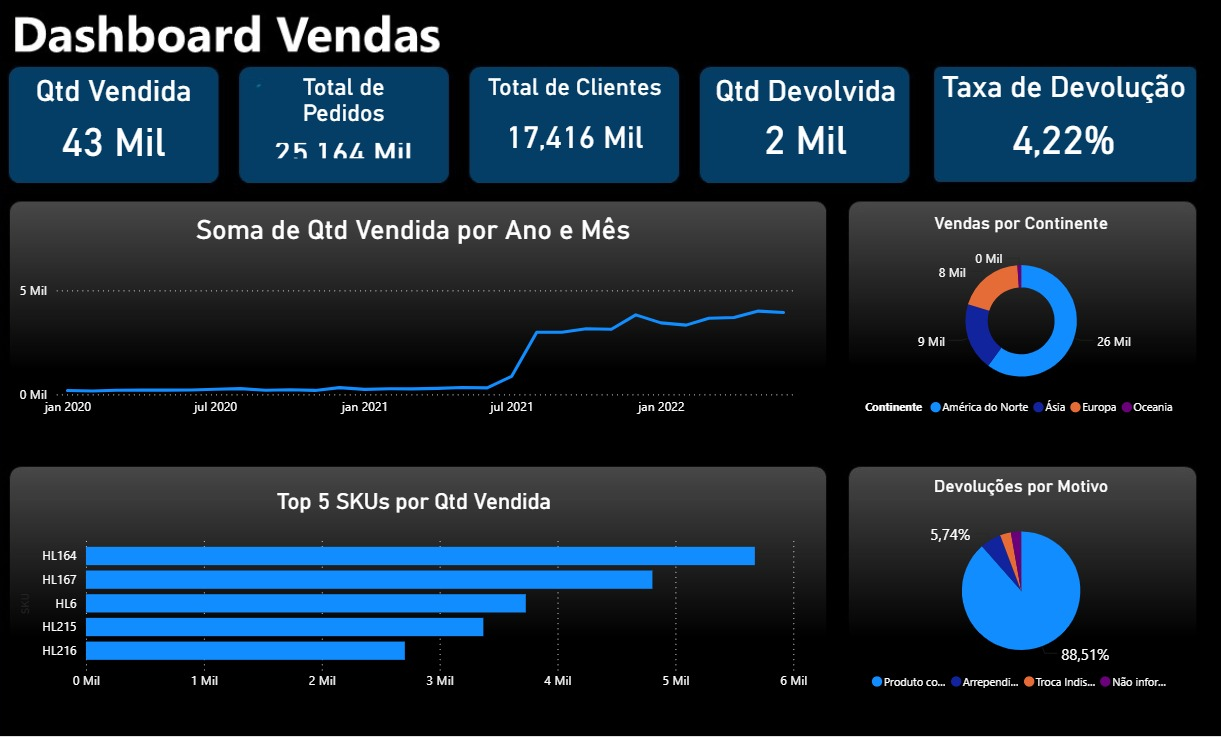

The dashboard page shown, as its layout file describes it:
{"tool":"powerbi","page":{"name":"Página 1","canvas":[1280,720],"ordinal":0},"visuals":[{"type":"cardVisual","title":"Qtd Vendida","fields":{"Data":["Sum(Vendas 2020-2021-2022.Qtd Vendida)"]},"box":[106.1,73.3,194,101],"z":0},{"type":"cardVisual","title":"Total de Pedidos","fields":{"Data":["Count(Vendas 2020-2021-2022.Ordem de Compra)"]},"box":[330.1,72.9,194,101],"z":1000},{"type":"cardVisual","title":"Total de Clientes","fields":{"Data":["Count(Vendas 2020-2021-2022.ID Cliente)"]},"box":[554,72.9,194,101],"z":2000},{"type":"cardVisual","title":"Qtd Devolvida","fields":{"Data":["Sum(BaseDevoluções.Qtd Devolvida)"]},"box":[778.8,72.9,194,101],"z":3000},{"type":"cardVisual","title":"Taxa de Devolução","fields":{"Data":["BaseDevoluções.Taxa Devolucao %"]},"box":[1001.8,69.1,250.8,108],"z":4000},{"type":"donutChart","title":"Vendas por Continente","fields":{"Y":["Sum(Vendas 2020-2021-2022.Qtd Vendida)"],"Category":["CadastroLocalidades.Continente"]},"box":[927.9,209.3,315.4,206.4],"z":5000},{"type":"lineChart","fields":{"Category":["Vendas 2020-2021-2022.Data da Venda.Variation.Hierarquia de datas.Ano","Vendas 2020-2021-2022.Data da Venda.Variation.Hierarquia de datas.Mês"],"Y":["Sum(Vendas 2020-2021-2022.Qtd Vendida)"]},"box":[106.1,209.3,776.5,206.4],"z":6000},{"type":"barChart","title":"Top 5 SKUs por Qtd Vendida","fields":{"Category":["Vendas 2020-2021-2022.SKU"],"Y":["Sum(Vendas 2020-2021-2022.Qtd Vendida)"]},"box":[107.1,476.5,776,206],"z":7000},{"type":"pieChart","title":"Devoluções por Motivo","fields":{"Y":["Sum(BaseDevoluções.Qtd Devolvida)"],"Category":["BaseDevoluções.Motivo Devolução"]},"box":[927.9,464.9,315.4,218],"z":8000}]}

Visuals, with their boxes on the page's 1280x720 design canvas (x1, y1, x2, y2). These are canvas units, not pixel positions in the 1221x737 screenshot, which may show the page scaled, cropped or inside an application window:
"Qtd Vendida" cardVisual: locate(106, 73, 300, 174)
"Total de Pedidos" cardVisual: locate(330, 73, 524, 174)
"Total de Clientes" cardVisual: locate(554, 73, 748, 174)
"Qtd Devolvida" cardVisual: locate(779, 73, 973, 174)
"Taxa de Devolução" cardVisual: locate(1002, 69, 1253, 177)
"Vendas por Continente" donutChart: locate(928, 209, 1243, 416)
lineChart - Vendas 2020-2021-2022.Data da Venda.Variation.Hierarquia de datas.Ano x Vendas 2020-2021-2022.Data da Venda.Variation.Hierarquia de datas.Mês: locate(106, 209, 883, 416)
"Top 5 SKUs por Qtd Vendida" barChart: locate(107, 476, 883, 682)
"Devoluções por Motivo" pieChart: locate(928, 465, 1243, 683)
